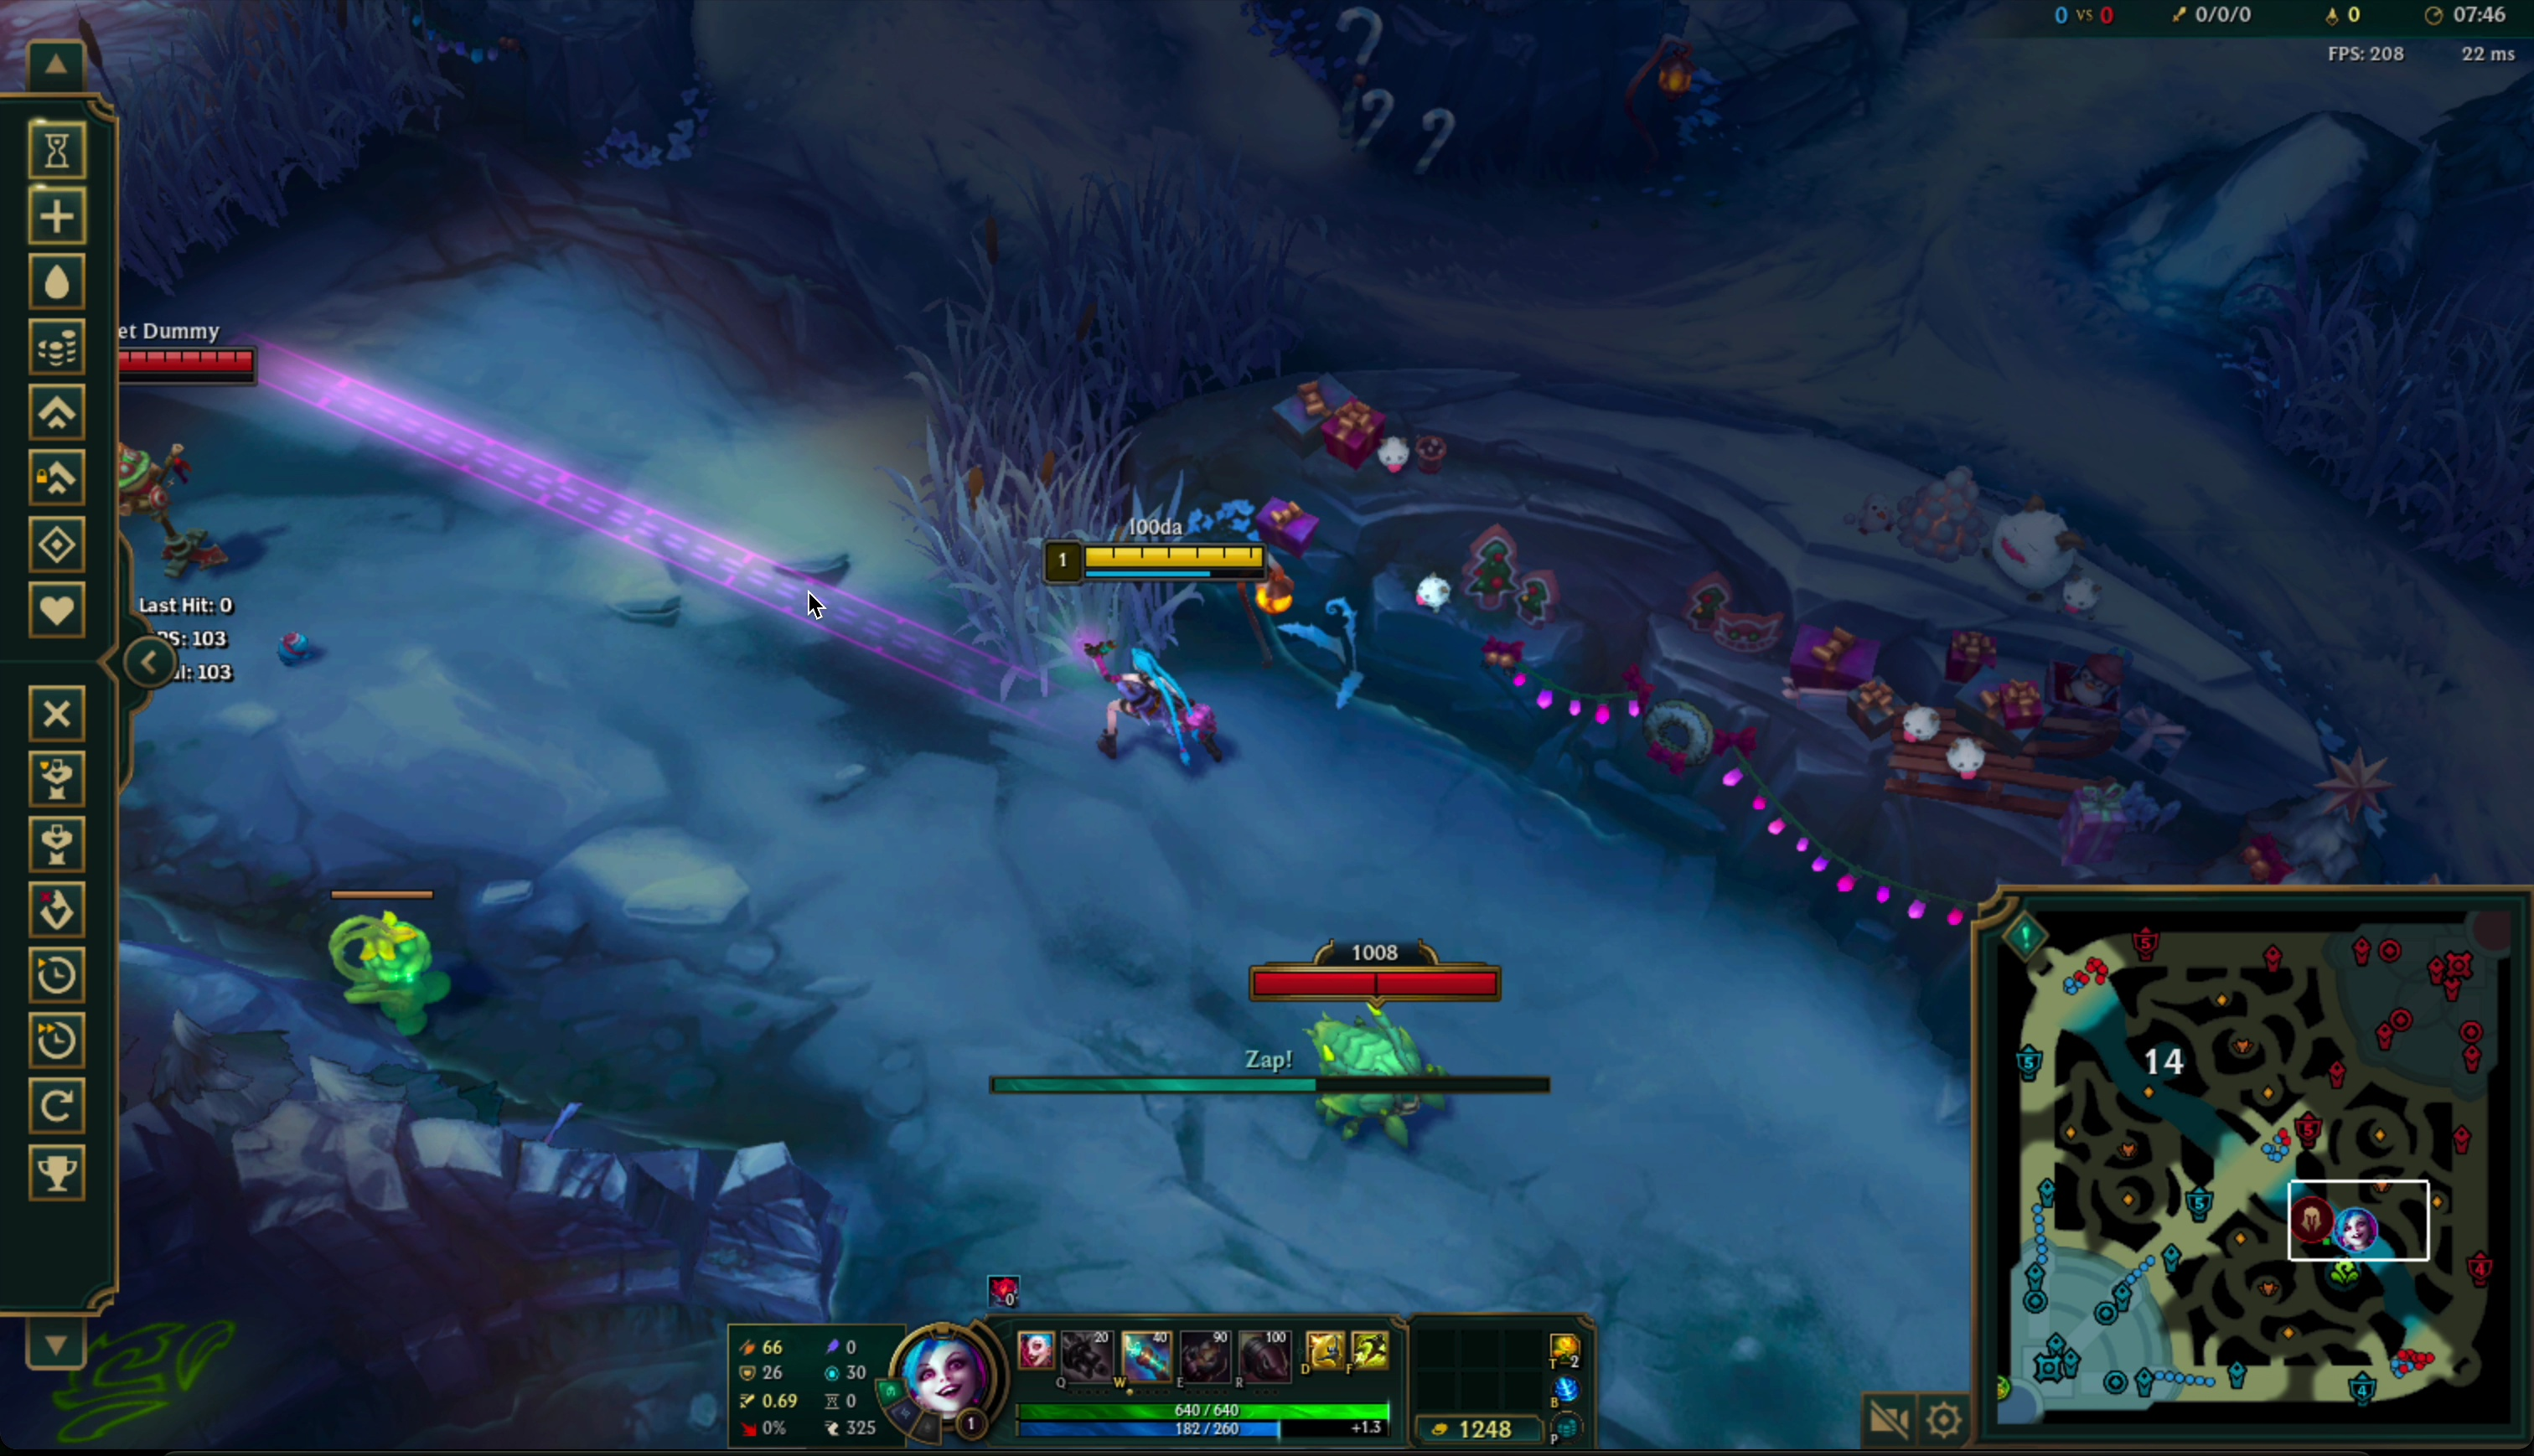JINX_W_PROJECTILE: (127, 284, 1319, 776)
